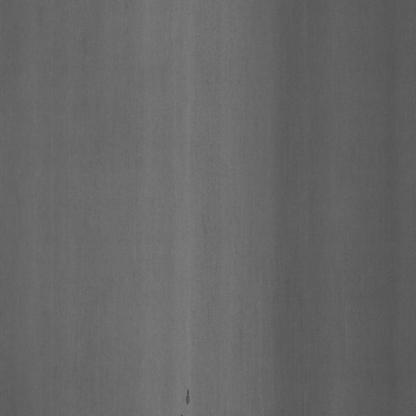inclusion: (182, 381, 195, 409)
